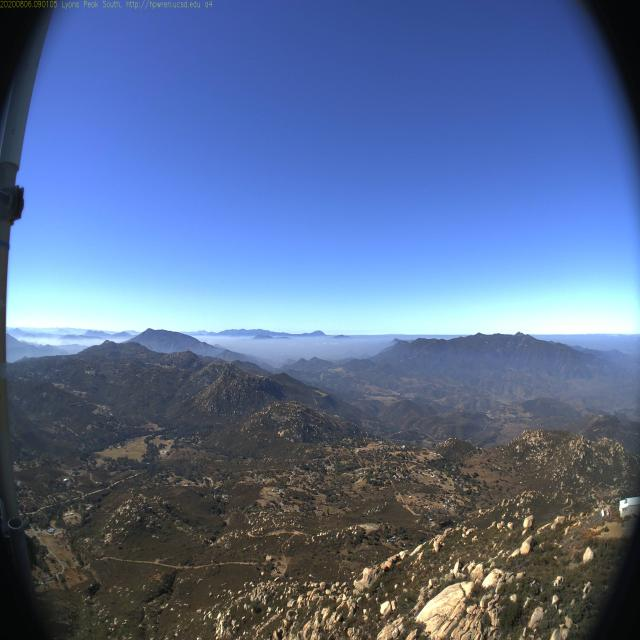smoke: (198, 338, 207, 352)
